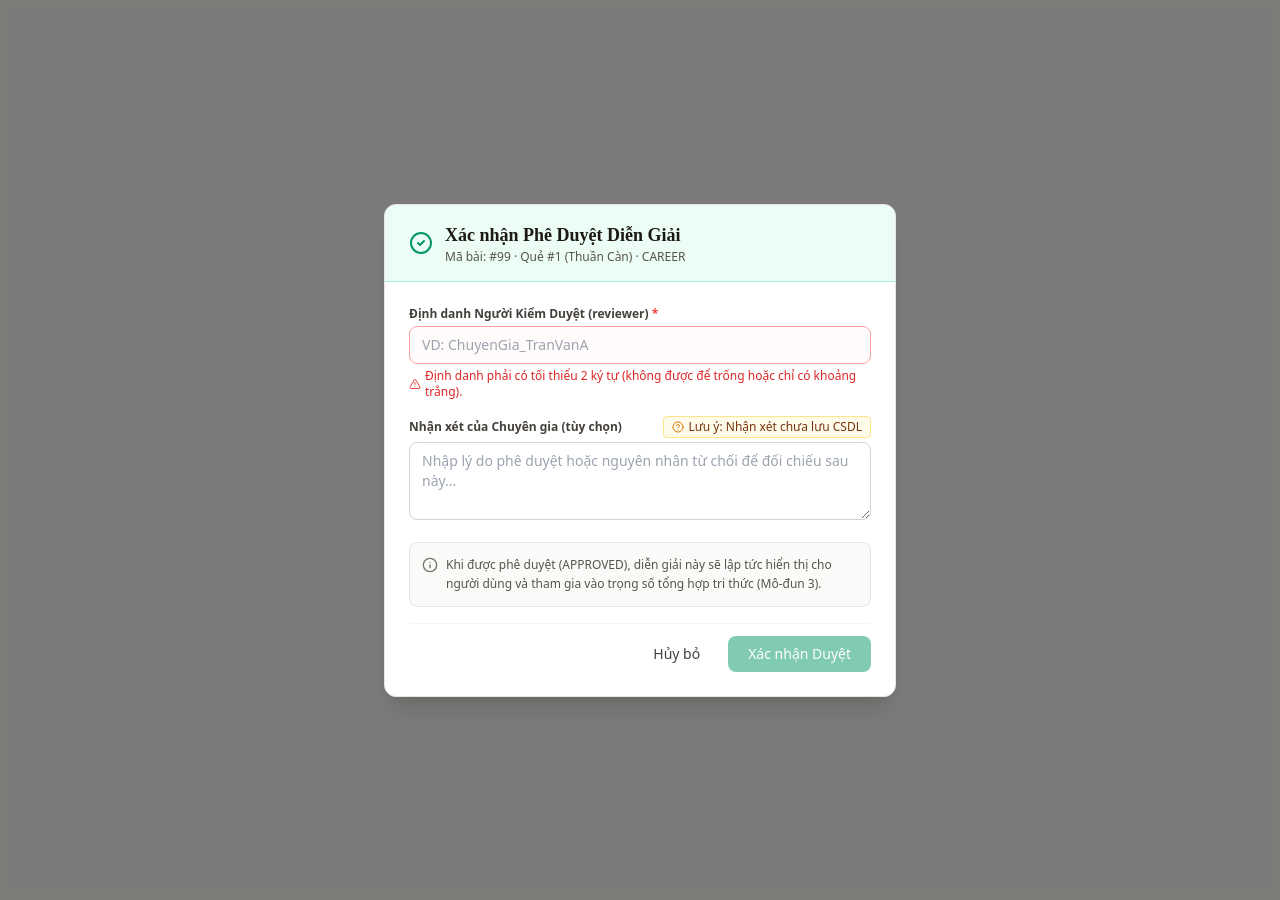
it: Gate 10: Quản Trị Tri Thức & Kiểm Duyệt (Knowledge Governance) › 2. Chặn Tự Phê Duyệt Bài Của Chính Mình (Anti-Self-Review Guard - BCR-004, McElroy 1999) › chặn duyệt trong ReviewConfirmModal khi định danh reviewer trống, ít hơn 2 ký tự hoặc là tên vai trò chung
Expected: the button "Xác nhận Duyệt" is disabled, 728,636 -> 871,672
Expected: the text "Định danh phải có tối thiểu 2 ký tự" is shown, 425,366 -> 856,400
Type "REVIEWER" into the field labelled "Định danh Người Kiểm Duyệt (reviewer) *" at (640, 344), box 409,326 -> 871,364
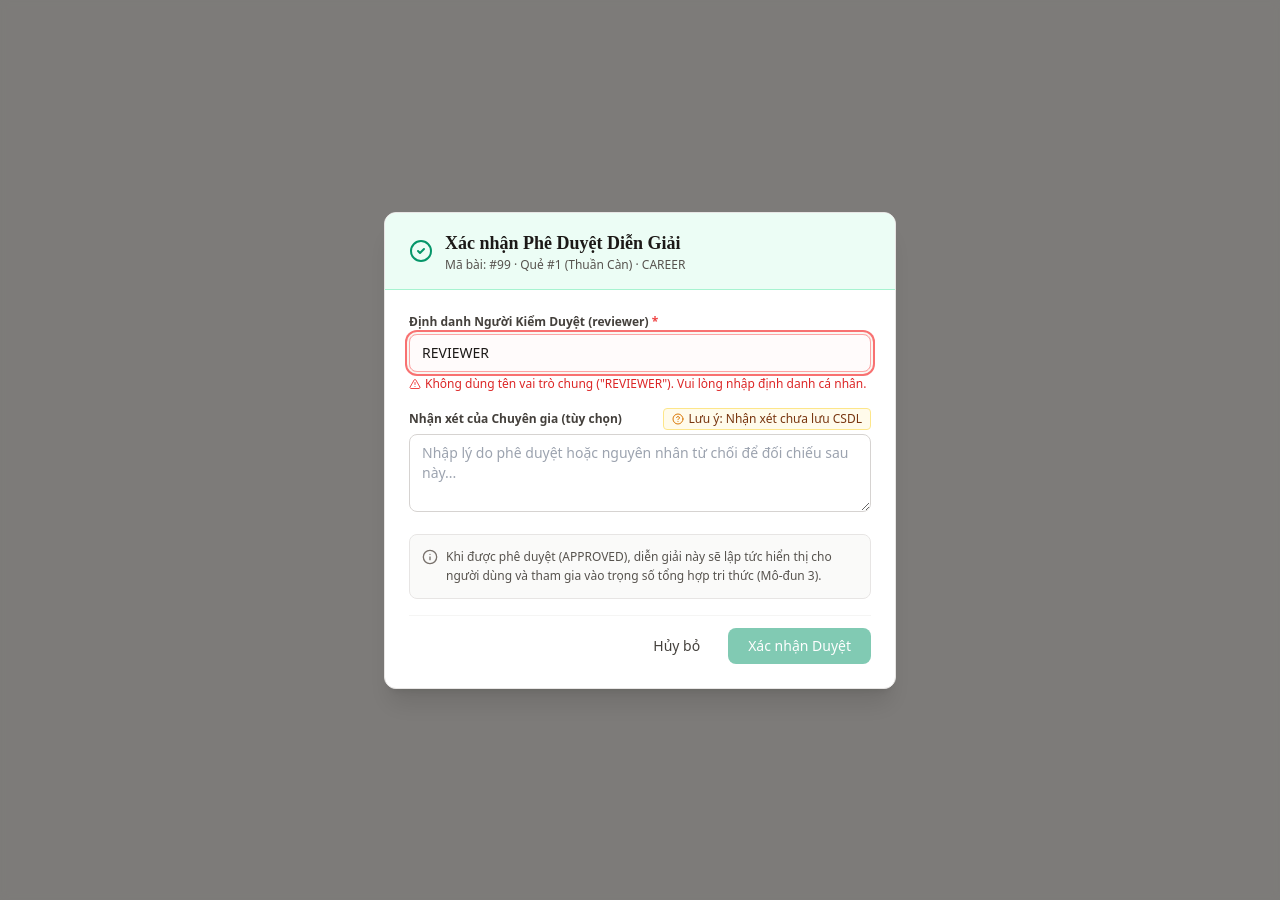
Expected: the button "Xác nhận Duyệt" is disabled, 728,628 -> 871,664
Now the text "Không dùng tên vai trò chung" is shown, box 425,374 -> 866,392
Clear the field labelled "Định danh Người Kiểm Duyệt (reviewer) *" at (640, 352), box 409,334 -> 871,372
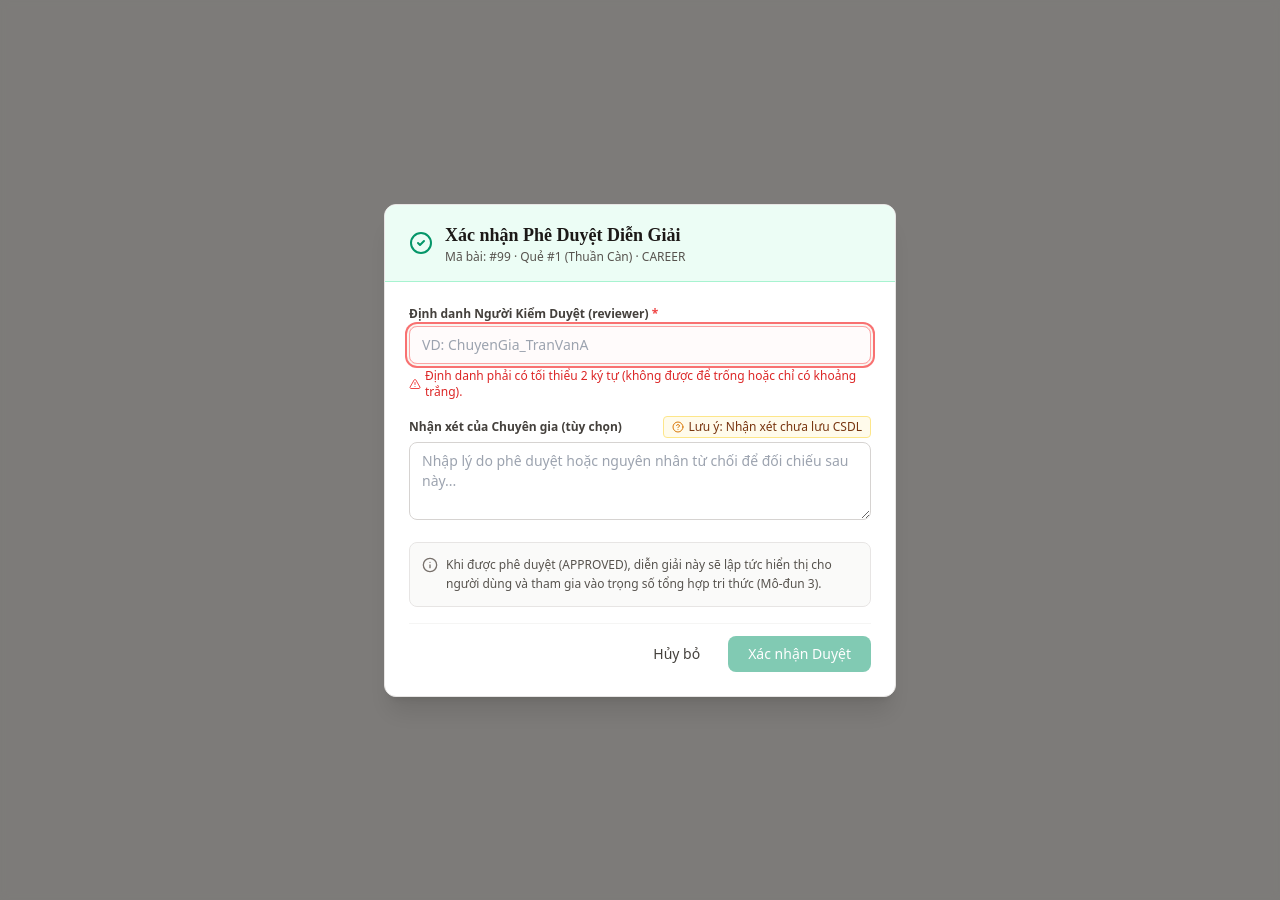
Type "ChuyenGia_TranVanA" into the field labelled "Định danh Người Kiểm Duyệt (reviewer) *" at (640, 344), box 409,326 -> 871,364
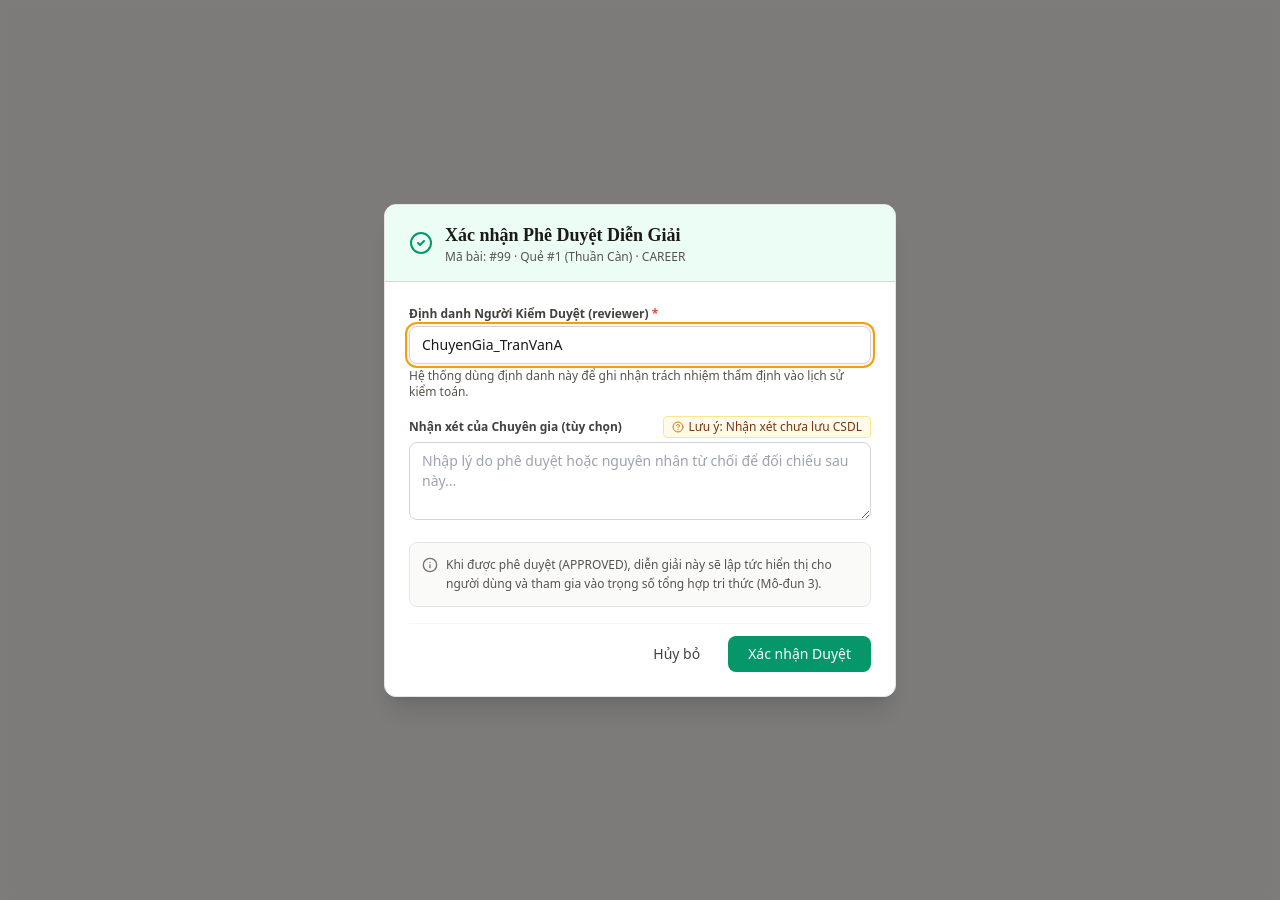
Now the button "Xác nhận Duyệt" is enabled, box 728,636 -> 871,672
